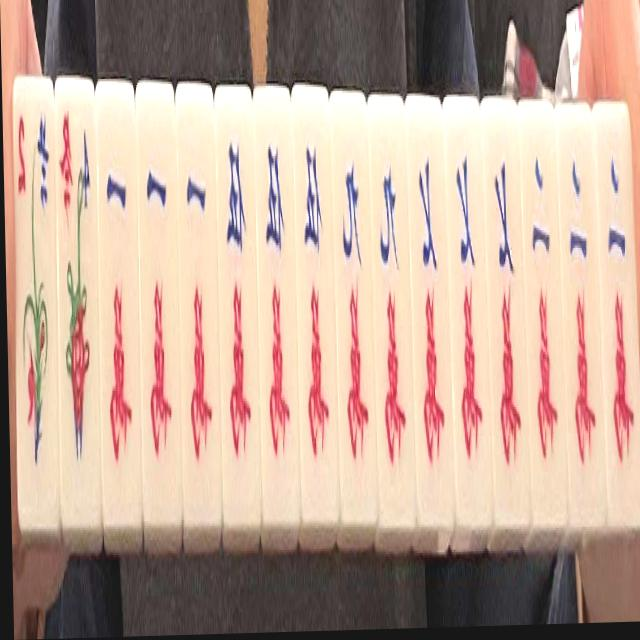1C: (176, 103, 222, 508), (98, 108, 142, 507), (137, 107, 181, 502)
2C: (557, 125, 602, 536), (599, 123, 640, 534), (525, 114, 561, 515)
2F: (14, 98, 62, 518)
4S: (55, 86, 102, 504)
5C: (215, 101, 259, 528), (292, 105, 336, 525), (256, 101, 299, 526)
7C: (449, 129, 491, 503), (488, 117, 527, 509), (411, 133, 450, 513)
9C: (368, 114, 412, 541), (334, 114, 376, 542)
